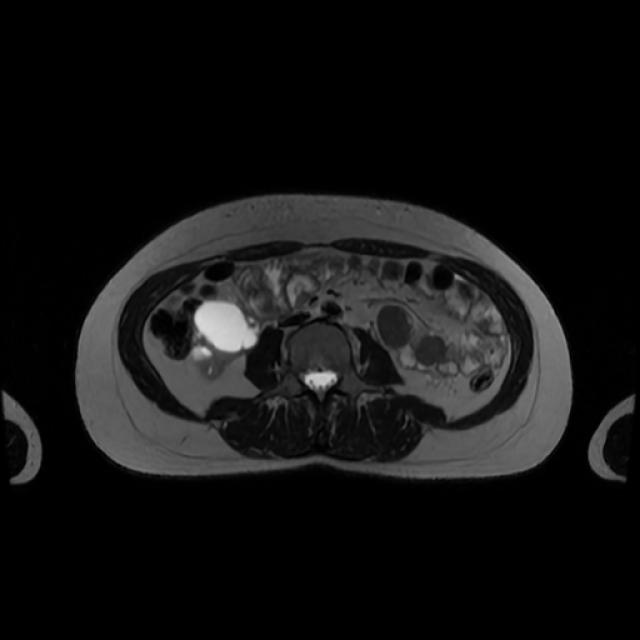sag: (189, 301, 258, 382)
